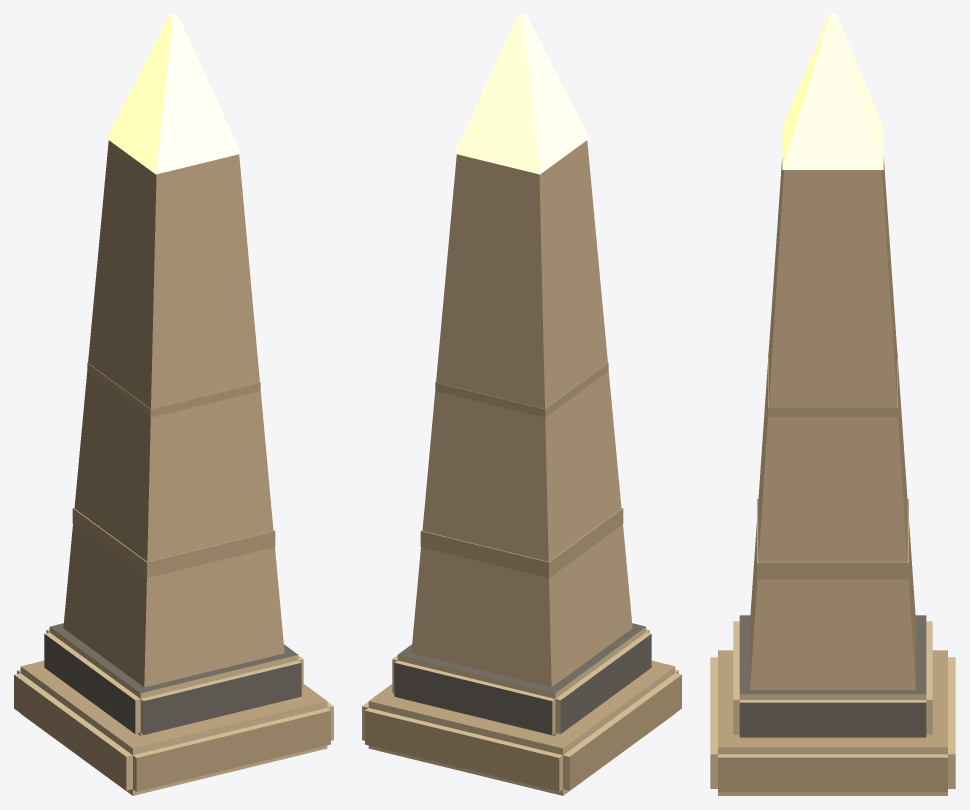
File: TILE_Pillar.glb
The picture shows the model from 3 angles, left to right: view 1: azimuth 30°, elevation 25°; view 2: azimuth 150°, elevation 25°; view 3: azimuth 270°, elevation 25°; orthographic projection. The views are drawn at different scales.
Parts seen in each view (by area): view 1: TILE_Pillar; view 2: TILE_Pillar; view 3: TILE_Pillar.
Part boxes in pixels (<box>): TILE_Pillar: <box>14,14,333,795</box>; TILE_Pillar: <box>362,14,681,795</box>; TILE_Pillar: <box>710,14,955,795</box>.
Size of the model in its own units: 1.92 by 6.32 by 1.92.
